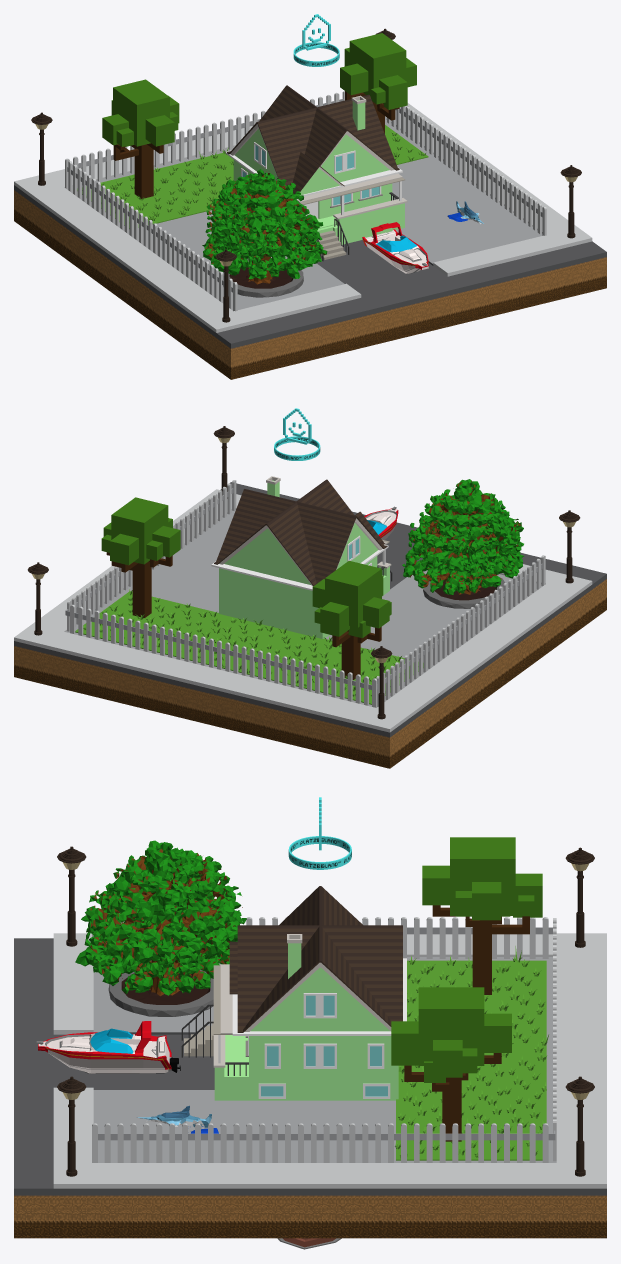
The picture shows the model from 3 angles, top to bottom: view 1: azimuth 30°, elevation 25°; view 2: azimuth 150°, elevation 25°; view 3: azimuth 270°, elevation 25°; orthographic projection. The views are drawn at different scales.
Visible parts, largest first — view 1: Cube.004, Cube.274, OBJRANDOM_CEIBA, VEHICLES_BOAT, TYPE_PREMIUM; view 2: Cube.004, Cube.274, OBJRANDOM_CEIBA, TYPE_PREMIUM, VEHICLES_BOAT; view 3: Cube.004, Cube.274, OBJRANDOM_CEIBA, VEHICLES_BOAT, TYPE_PREMIUM, ANIMAL_PEZ_ESPADA.
Part boxes in pixels (box(x1,y1,x2,y2)): Cube.004: box(14, 28, 606, 379); Cube.274: box(225, 85, 407, 261); OBJRANDOM_CEIBA: box(202, 169, 327, 297); VEHICLES_BOAT: box(362, 222, 428, 274); TYPE_PREMIUM: box(293, 14, 339, 66); Cube.004: box(14, 426, 606, 768); Cube.274: box(211, 476, 392, 638); OBJRANDOM_CEIBA: box(402, 479, 524, 608); TYPE_PREMIUM: box(274, 408, 320, 460); VEHICLES_BOAT: box(364, 506, 398, 539); Cube.004: box(14, 837, 606, 1238); Cube.274: box(181, 886, 406, 1100); OBJRANDOM_CEIBA: box(75, 840, 246, 1016); VEHICLES_BOAT: box(36, 1021, 180, 1073); TYPE_PREMIUM: box(288, 797, 351, 869); ANIMAL_PEZ_ESPADA: box(137, 1105, 218, 1133).
Bounding box in the file's own units: 4000 × 3183 × 4000.
Materials: 41 (4 with a texture image).
